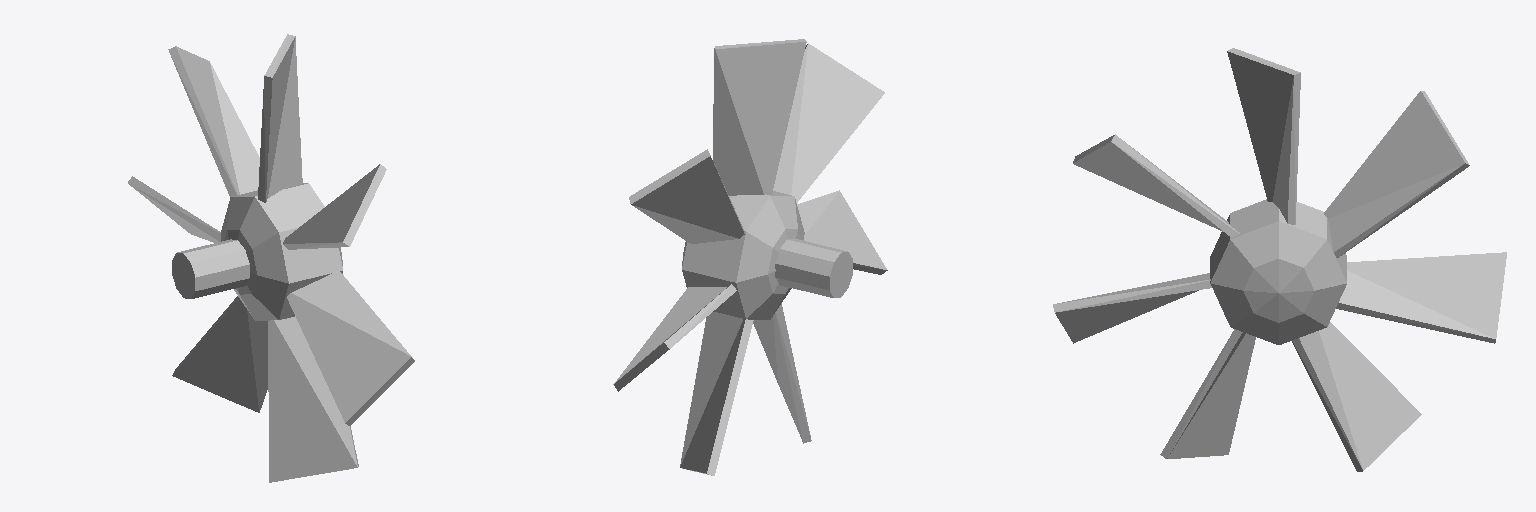
Rendered from pump-fan.obj.
The picture shows the model from 3 angles: view 1: azimuth 30°, elevation 25°; view 2: azimuth 150°, elevation 25°; view 3: azimuth 270°, elevation 25°; orthographic projection.
Parts seen in each view (by area): view 1: 布料曲面_5, 布料曲面_4, 油桶.1, 布料曲面_3, 布料曲面_0_1, 布料曲面_0, 布料曲面_6, 圆柱.4, 布料曲面_2; view 2: 布料曲面_0, 油桶.1, 布料曲面_6, 布料曲面_3, 布料曲面_0_1, 布料曲面_5, 圆柱.4, 布料曲面_2, 布料曲面_4; view 3: 油桶.1, 布料曲面_2, 布料曲面_0_1, 布料曲面_3, 布料曲面_0, 布料曲面_4, 布料曲面_6, 布料曲面_5.
Part boxes in pixels (x1,y1,x2,y2): 布料曲面_5: (287, 270, 414, 425); 布料曲面_4: (268, 316, 358, 482); 油桶.1: (221, 183, 342, 320); 布料曲面_3: (172, 296, 267, 412); 布料曲面_0_1: (168, 46, 259, 196); 布料曲面_0: (258, 34, 302, 202); 布料曲面_6: (283, 164, 386, 249); 圆柱.4: (172, 239, 249, 298); 布料曲面_2: (128, 176, 220, 242); 布料曲面_0: (713, 39, 806, 195); 油桶.1: (682, 191, 804, 319); 布料曲面_6: (773, 43, 884, 202); 布料曲面_3: (680, 312, 753, 475); 布料曲面_0_1: (629, 149, 744, 243); 布料曲面_5: (797, 190, 887, 274); 圆柱.4: (775, 238, 852, 297); 布料曲面_2: (613, 284, 736, 391); 布料曲面_4: (753, 303, 811, 443); 油桶.1: (1210, 199, 1346, 344); 布料曲面_2: (1336, 252, 1506, 343); 布料曲面_0_1: (1324, 91, 1469, 257); 布料曲面_3: (1292, 322, 1421, 471); 布料曲面_0: (1227, 48, 1300, 224); 布料曲面_4: (1160, 329, 1255, 458); 布料曲面_6: (1073, 134, 1239, 237); 布料曲面_5: (1053, 273, 1211, 343).
Size of the model in its own units: 8.59 by 22.97 by 23.22.